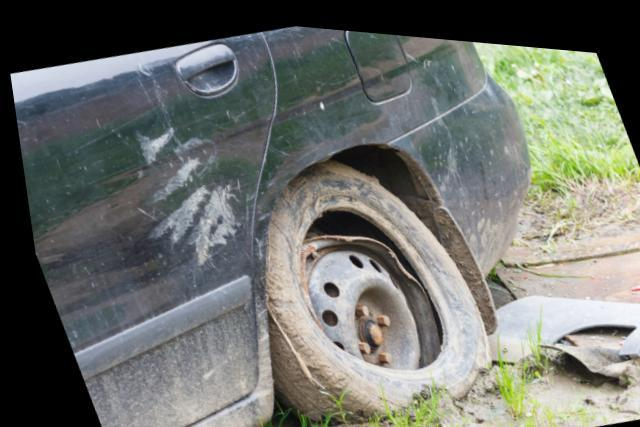scratch: (130, 119, 234, 267)
tire flat: (260, 156, 483, 419)
